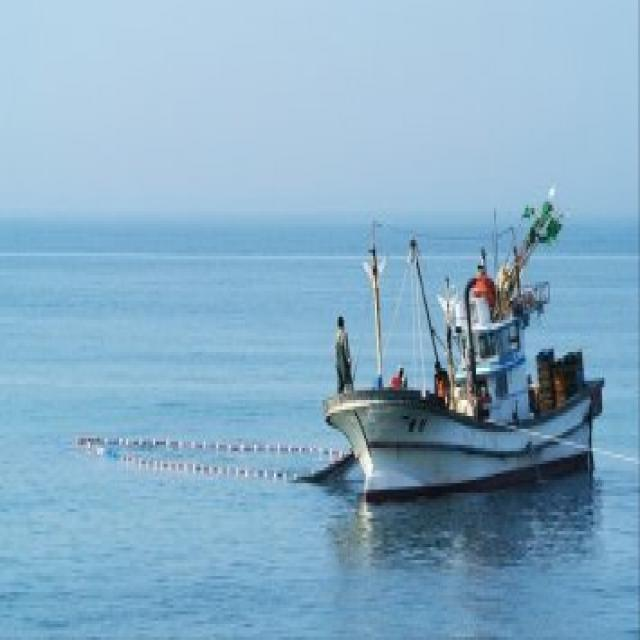Ship: (315, 174, 618, 523)
